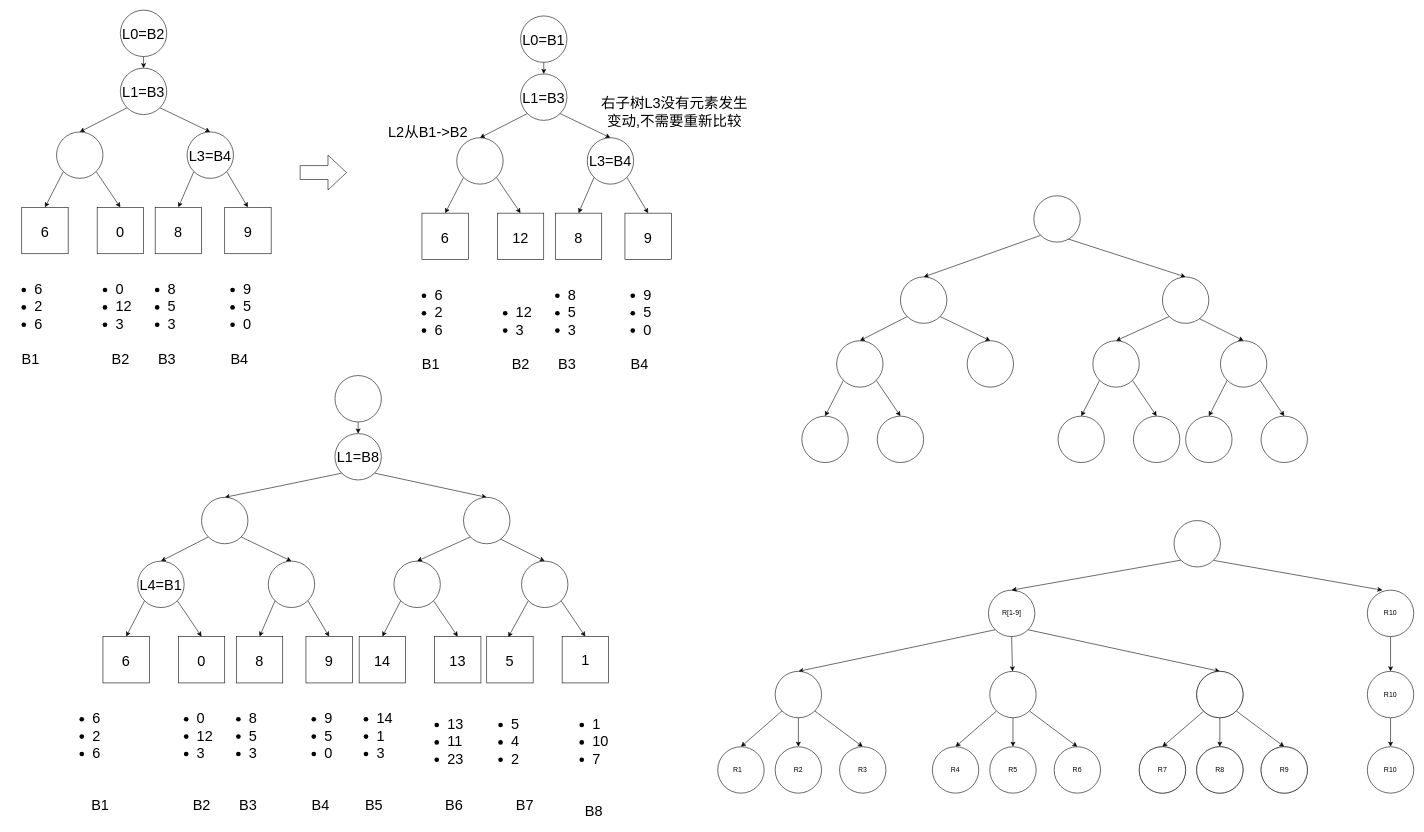
This 1424x832 diagram has some shape labels left out. The centre of each missing label's shape, as x and y in pixels:
"L0=B8" belongs at [357,398].
"L2=B1" belongs at [79,154].
"L2=B2" belongs at [479,160].
"L2=B3" belongs at [224,520].
"L3=B6" belongs at [486,520].
"L5=B4" belongs at [291,584].
"L6=B5" belongs at [416,584].
"L7=B7" belongs at [544,584].
"R[1-10]" belongs at [1196,543].
"R[1-3]" belongs at [798,694].
"R[4-6]" belongs at [1012,694].
"R[7-9]" belongs at [1219,694].
